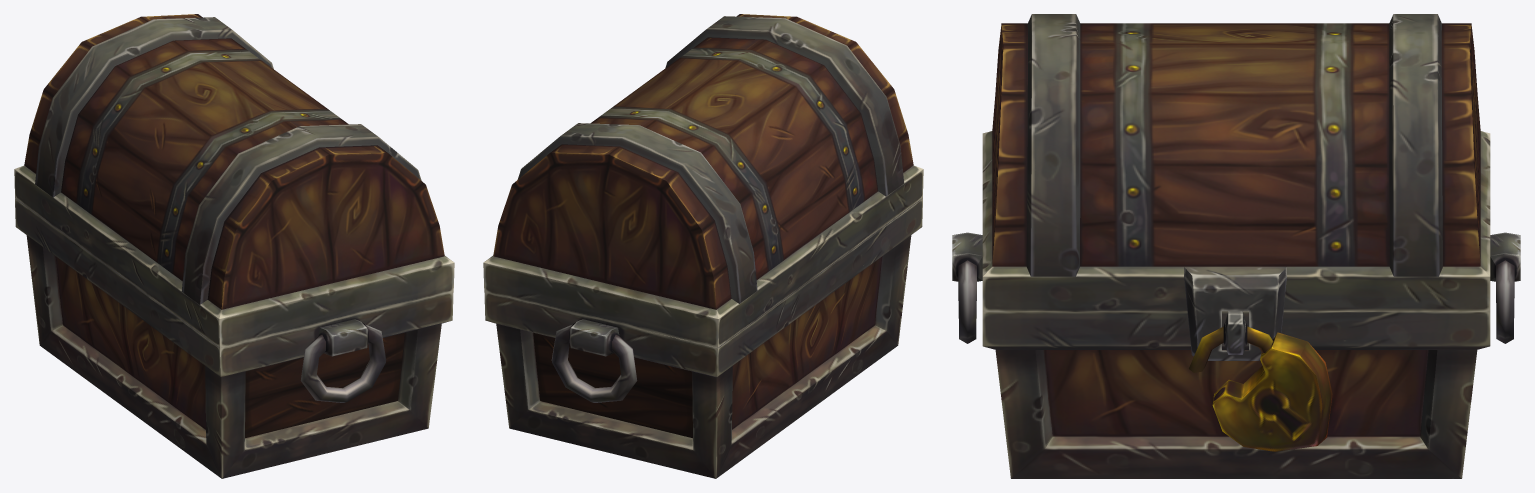
Rendered from Chest.fbx.
3 renders of one model, left to right at view 1: azimuth 30°, elevation 25°; view 2: azimuth 150°, elevation 25°; view 3: azimuth 270°, elevation 25°, orthographic. The views are drawn at different scales.
Visible parts, largest first — view 1: Cap, Body; view 2: Cap, Body; view 3: Cap, Body.
Boxes of the visible parts, x1,y1,x2,y2 form: Cap: [14, 14, 454, 347]; Body: [15, 198, 453, 478]; Cap: [483, 14, 923, 347]; Body: [484, 198, 922, 478]; Cap: [982, 14, 1490, 360]; Body: [952, 232, 1520, 478].
Bounding box in the file's own units: 72.38 × 53.59 × 48.82.
